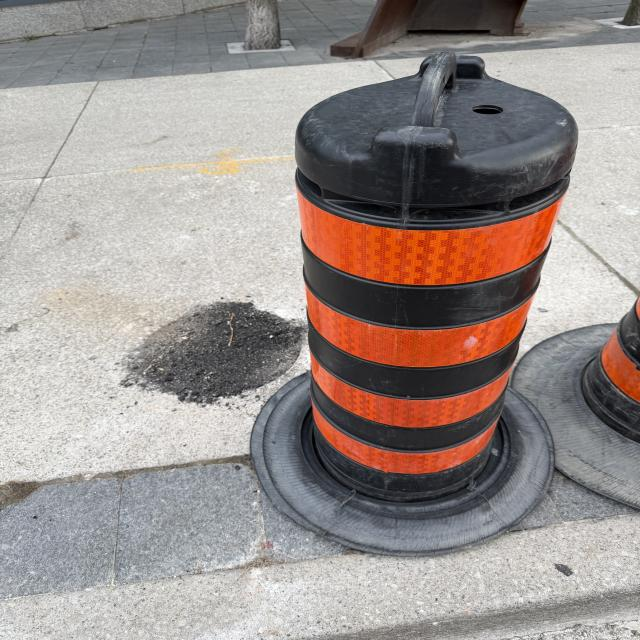Teraffic Barrel: (252, 52, 577, 554), (512, 299, 640, 506)
